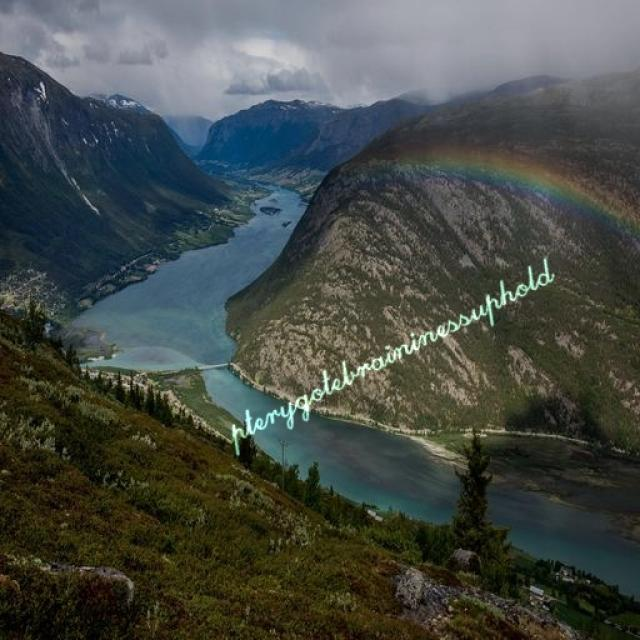watermark: (226, 253, 554, 447)
